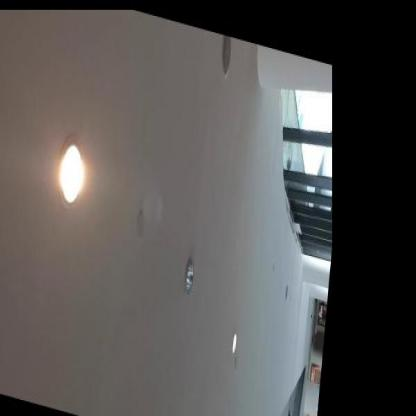light_on: (48, 115, 94, 222), (225, 321, 242, 363)
